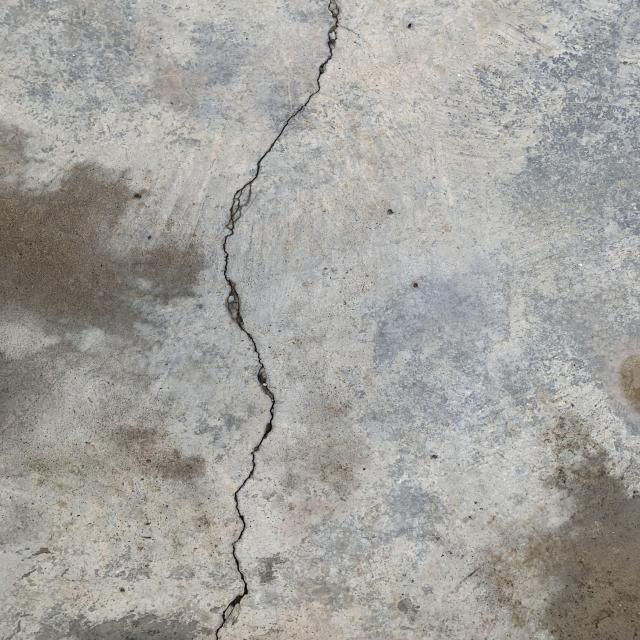vertical crack: (216, 2, 342, 637)
